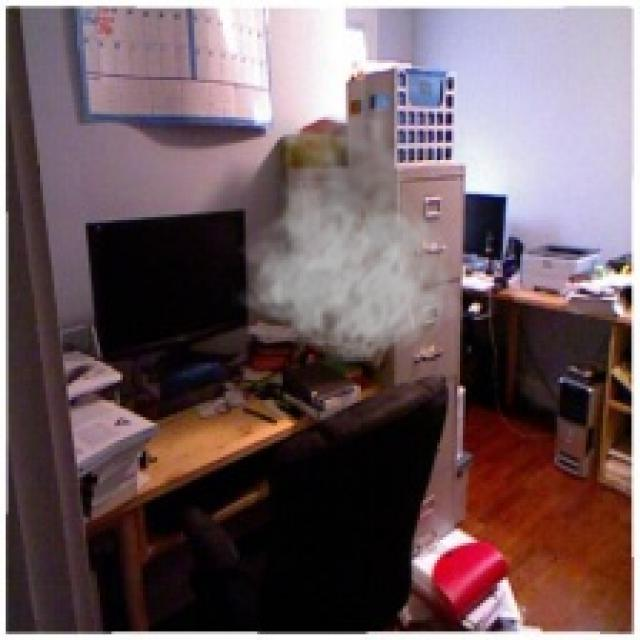smoke: (231, 94, 463, 366)
